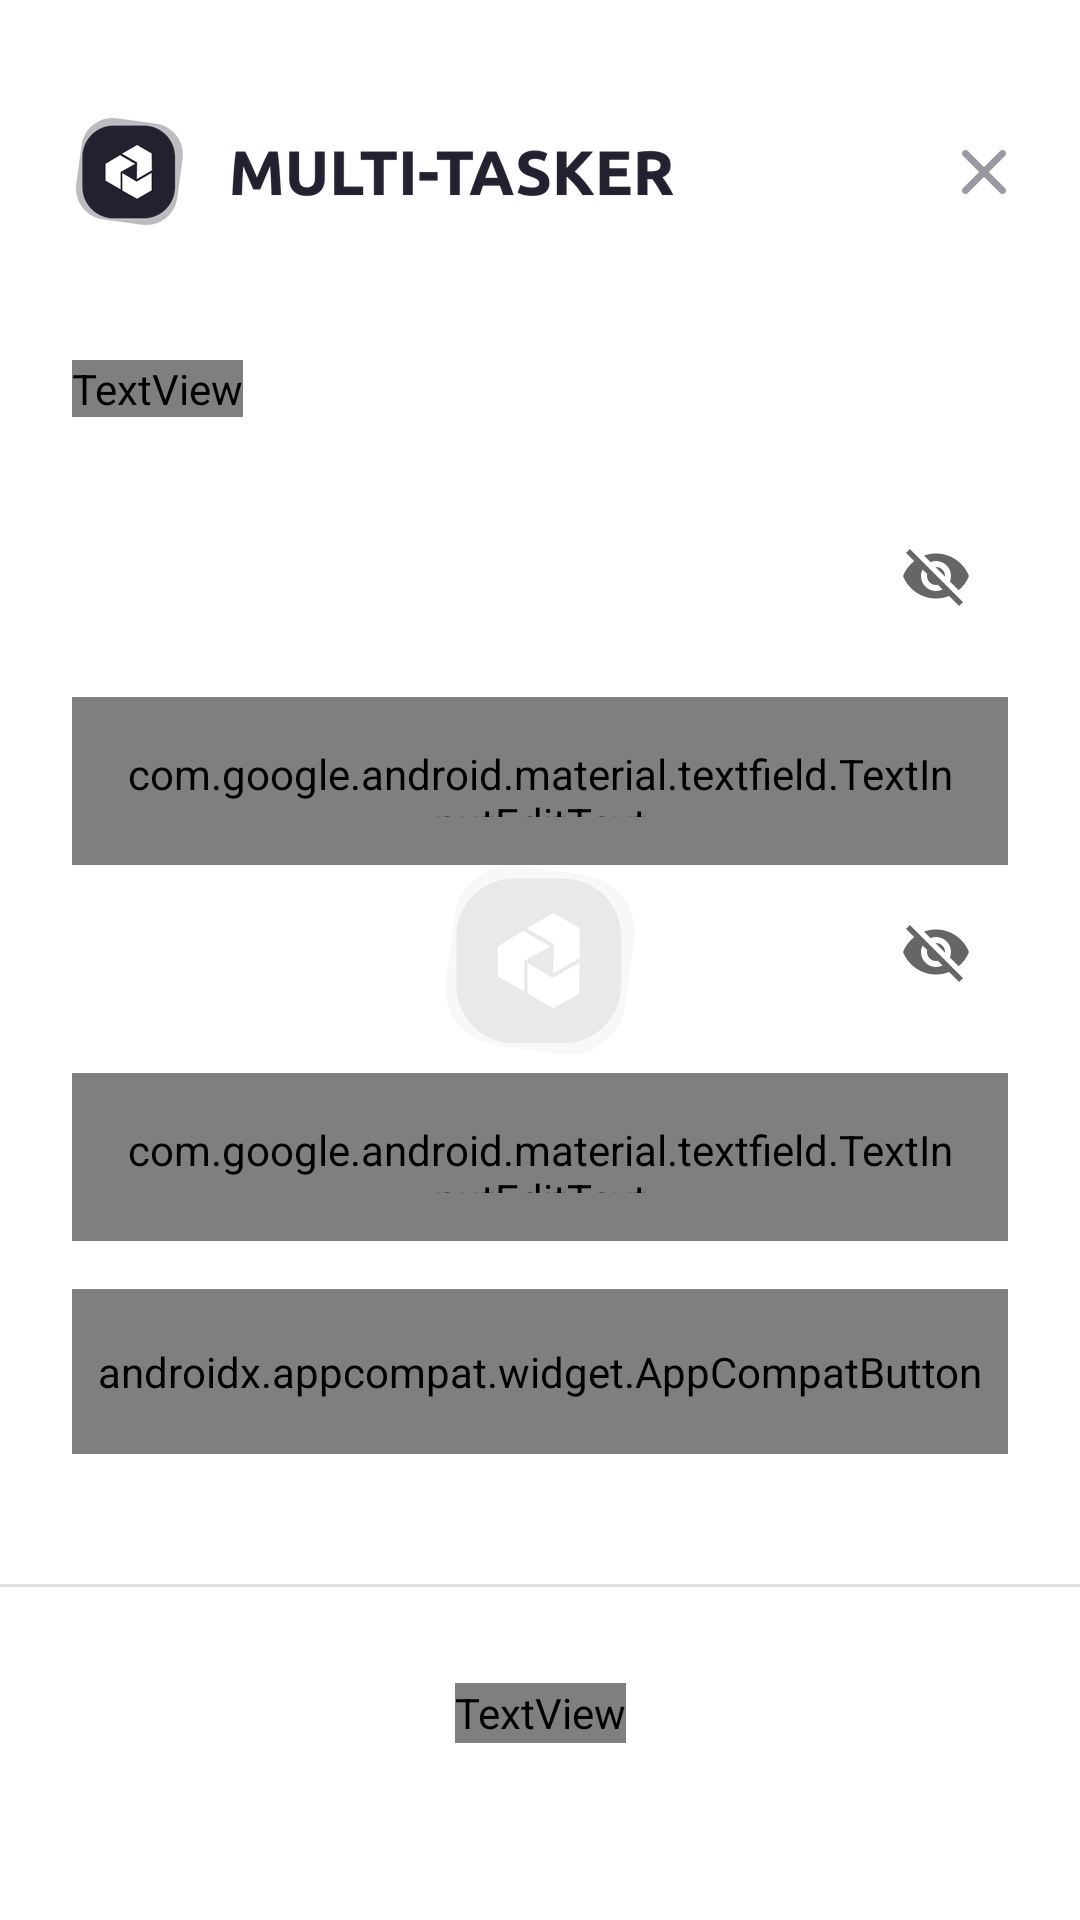

Icon click points for this 1080w x 1920h phone screenshot, format (x=x, y=y):
close: (x=984, y=172)
